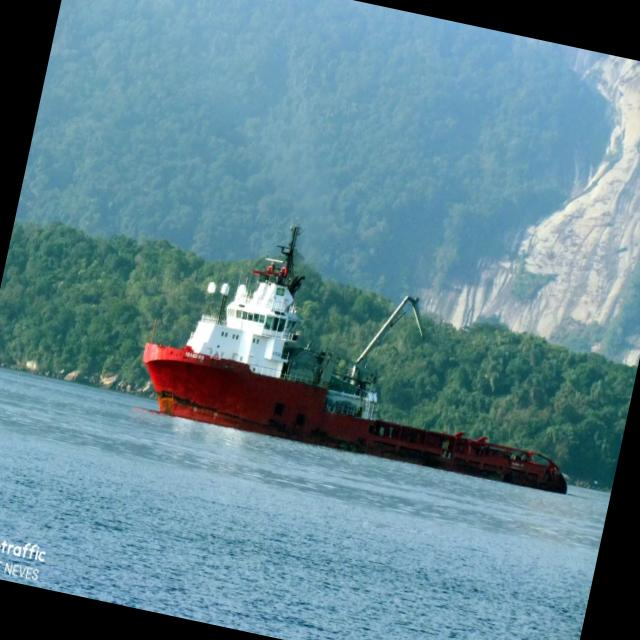Offshore: (142, 226, 566, 492)
